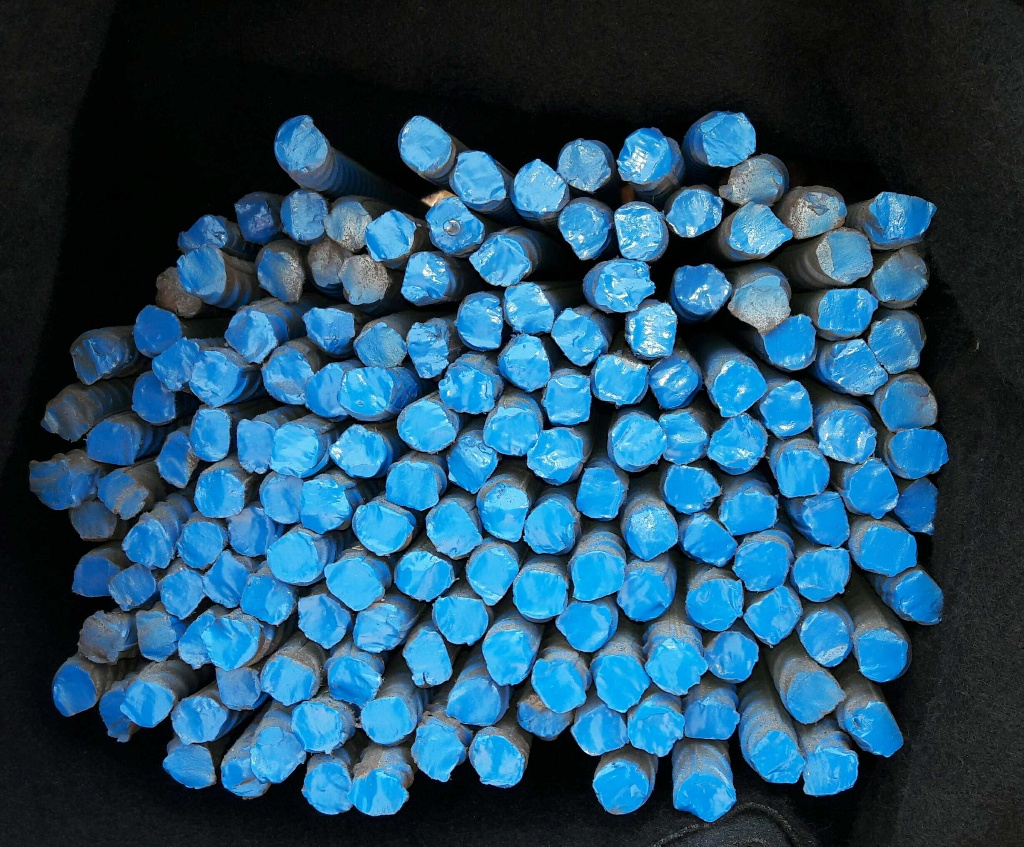dipstickw: (824, 339, 888, 396), (743, 586, 802, 644), (730, 277, 790, 334), (709, 414, 765, 473), (610, 415, 666, 473), (646, 640, 705, 695), (617, 128, 673, 185), (323, 560, 386, 610), (729, 203, 792, 253), (728, 154, 787, 207), (528, 428, 583, 484), (711, 360, 766, 416), (273, 115, 327, 172), (426, 501, 480, 558), (552, 308, 606, 365), (426, 197, 484, 250), (465, 548, 518, 606), (614, 202, 667, 260), (817, 412, 875, 465), (867, 191, 931, 239), (454, 151, 504, 212), (792, 549, 849, 602), (331, 424, 386, 478), (686, 578, 742, 631), (880, 381, 936, 434), (354, 503, 412, 554), (870, 248, 928, 299), (448, 435, 498, 494), (570, 705, 629, 755), (887, 428, 948, 476), (531, 658, 586, 711), (630, 703, 685, 756), (596, 655, 648, 711), (760, 379, 812, 435), (262, 348, 313, 405), (412, 725, 463, 782), (439, 363, 496, 414), (500, 334, 551, 391), (790, 187, 847, 238), (870, 316, 921, 373), (395, 550, 453, 600), (397, 402, 455, 452), (674, 773, 735, 820), (265, 531, 318, 585), (764, 315, 817, 369), (399, 116, 451, 171), (558, 204, 610, 259), (593, 762, 648, 814), (596, 261, 654, 310), (618, 567, 671, 620), (702, 112, 755, 165), (224, 310, 276, 364), (252, 727, 304, 781), (856, 628, 908, 682), (189, 351, 240, 406), (800, 611, 851, 666), (817, 232, 873, 282), (202, 552, 251, 609), (849, 460, 898, 517), (297, 595, 349, 648), (299, 478, 351, 531), (512, 160, 565, 212), (851, 702, 902, 756), (524, 500, 574, 555), (468, 237, 525, 285), (480, 484, 527, 542), (626, 508, 678, 560), (787, 672, 840, 723), (483, 630, 533, 684), (556, 603, 611, 652), (403, 631, 450, 688), (350, 769, 408, 815), (202, 618, 253, 670), (559, 140, 610, 192), (752, 730, 803, 782), (736, 541, 789, 591), (327, 657, 381, 706), (704, 632, 758, 681), (594, 355, 649, 403), (673, 265, 729, 312), (456, 292, 502, 349), (859, 526, 916, 572), (819, 290, 877, 335), (301, 764, 352, 815), (96, 470, 148, 520), (649, 357, 699, 409), (684, 517, 736, 567), (572, 551, 625, 600), (447, 678, 501, 726), (484, 407, 538, 455), (512, 571, 567, 618), (667, 189, 722, 236), (70, 332, 120, 383), (626, 305, 676, 356), (133, 305, 182, 357), (658, 413, 707, 465), (339, 367, 393, 414), (172, 697, 227, 743), (505, 282, 553, 334), (803, 749, 857, 795), (803, 493, 848, 548), (243, 576, 294, 624), (353, 604, 404, 652), (665, 465, 716, 513), (777, 448, 828, 496), (258, 472, 305, 524), (387, 462, 439, 509), (270, 424, 318, 474), (340, 256, 390, 304), (402, 252, 450, 302), (43, 394, 94, 441), (157, 568, 204, 619), (576, 467, 623, 518), (435, 596, 487, 642), (258, 250, 303, 303), (177, 247, 226, 295), (293, 702, 342, 750), (228, 507, 276, 556), (123, 681, 173, 728), (544, 373, 590, 424), (354, 322, 406, 367), (406, 321, 447, 378), (163, 744, 216, 788), (518, 695, 571, 739), (720, 493, 778, 533), (153, 340, 202, 387), (362, 697, 411, 744), (263, 656, 313, 702), (282, 190, 327, 241), (303, 308, 355, 352), (306, 364, 348, 418), (367, 210, 414, 258), (121, 522, 170, 568), (897, 574, 943, 623), (194, 471, 244, 516), (52, 665, 97, 715), (156, 431, 195, 488), (29, 460, 75, 508), (326, 200, 370, 250), (78, 613, 121, 664), (684, 696, 735, 739), (236, 419, 276, 473), (233, 197, 279, 243), (133, 373, 176, 422), (85, 423, 136, 464), (110, 564, 156, 609), (155, 268, 199, 315), (213, 665, 261, 708), (177, 522, 222, 567), (73, 555, 121, 597), (898, 479, 936, 532), (135, 612, 176, 660), (221, 756, 270, 796), (190, 411, 229, 461), (70, 499, 115, 538), (176, 215, 227, 249), (100, 687, 129, 741)
